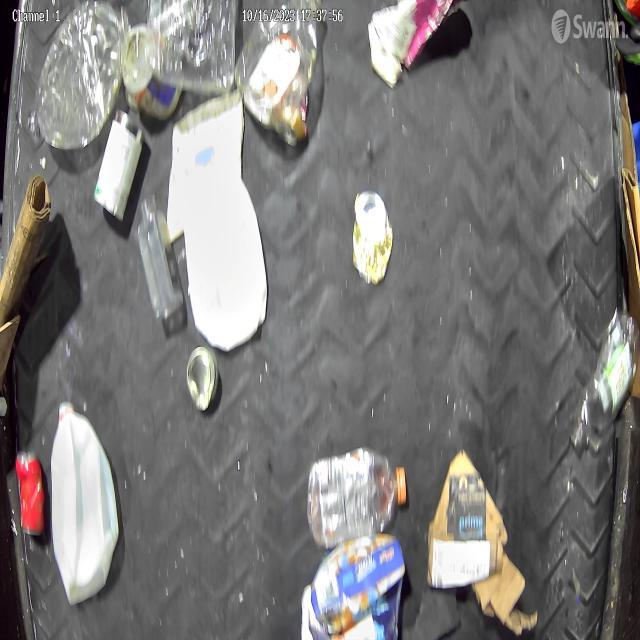can: (348, 182, 390, 283), (15, 450, 41, 540), (184, 344, 218, 412)
milk_jug: (182, 149, 264, 339), (53, 397, 114, 594)
plastic_bottle: (23, 12, 125, 147), (312, 452, 409, 540), (576, 310, 631, 447)
